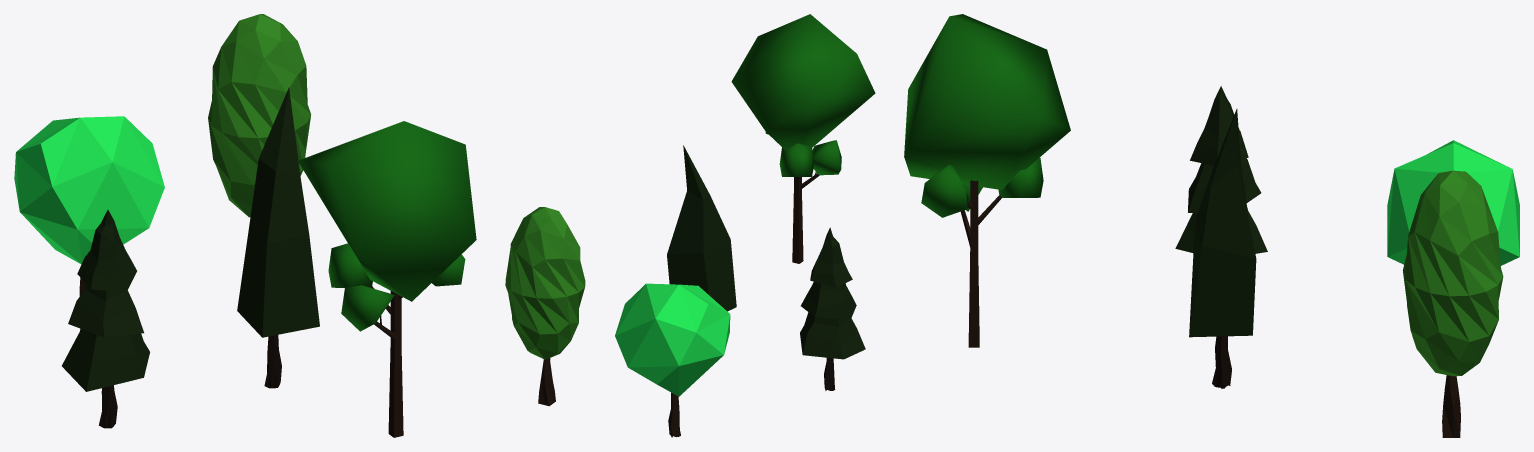
The model's file is Tree pine single form.fbx.
3 views of the same model, side by side, from view 1: azimuth 30°, elevation 25°; view 2: azimuth 150°, elevation 25°; view 3: azimuth 270°, elevation 25° (orthographic). The views are drawn at different scales.
Visible parts, largest first — view 1: GeoSphere007, GeoSphere001, GeoSphere002, Pyramid001, Cone003, Cone001, Cone002, Box002, GeoSphere004, GeoSphere003, Cylinder002, Cylinder003 (+1 smaller); view 2: GeoSphere007, GeoSphere001, GeoSphere002, Pyramid001, Cone003, Cone002, Cone001, GeoSphere003, GeoSphere004, Box002, Box001, Cylinder001; view 3: GeoSphere007, GeoSphere002, Pyramid001, GeoSphere001, Cone001, GeoSphere006, Box002, Cone002, GeoSphere003, Box001, Cone003, Cylinder002.
Part boxes in pixels (x1,y1,x2,y2): GeoSphere007: (298, 121, 476, 301); GeoSphere001: (14, 116, 164, 264); GeoSphere002: (208, 14, 311, 217); Pyramid001: (237, 87, 319, 337); Cone003: (62, 328, 149, 391); Cone001: (77, 210, 136, 292); Cone002: (68, 284, 143, 337); Box002: (388, 291, 403, 437); GeoSphere004: (341, 285, 394, 331); GeoSphere003: (328, 243, 372, 287); Cylinder002: (264, 335, 281, 388); Cylinder003: (98, 385, 117, 428); GeoSphere007: (731, 14, 875, 150); GeoSphere001: (615, 283, 730, 396); GeoSphere002: (505, 207, 585, 359); Pyramid001: (667, 145, 736, 311); Cone003: (800, 312, 865, 359); Cone002: (801, 282, 856, 319); Cone001: (810, 227, 852, 287); GeoSphere003: (779, 143, 814, 176); GeoSphere004: (812, 140, 841, 175); Box002: (792, 177, 803, 263); Box001: (538, 358, 555, 406); Cylinder001: (668, 392, 680, 437); GeoSphere007: (904, 14, 1070, 189); GeoSphere002: (1403, 170, 1503, 376); Pyramid001: (1189, 109, 1256, 337); GeoSphere001: (1387, 140, 1519, 265); Cone001: (1190, 86, 1248, 165); GeoSphere006: (921, 164, 968, 217); Box002: (968, 180, 979, 347); Cone002: (1188, 158, 1261, 212); GeoSphere003: (998, 157, 1043, 197); Box001: (1442, 375, 1460, 437); Cone003: (1175, 205, 1267, 253); Cylinder002: (1212, 336, 1231, 388).
Size of the model in its own units: 146 by 147 by 222.
